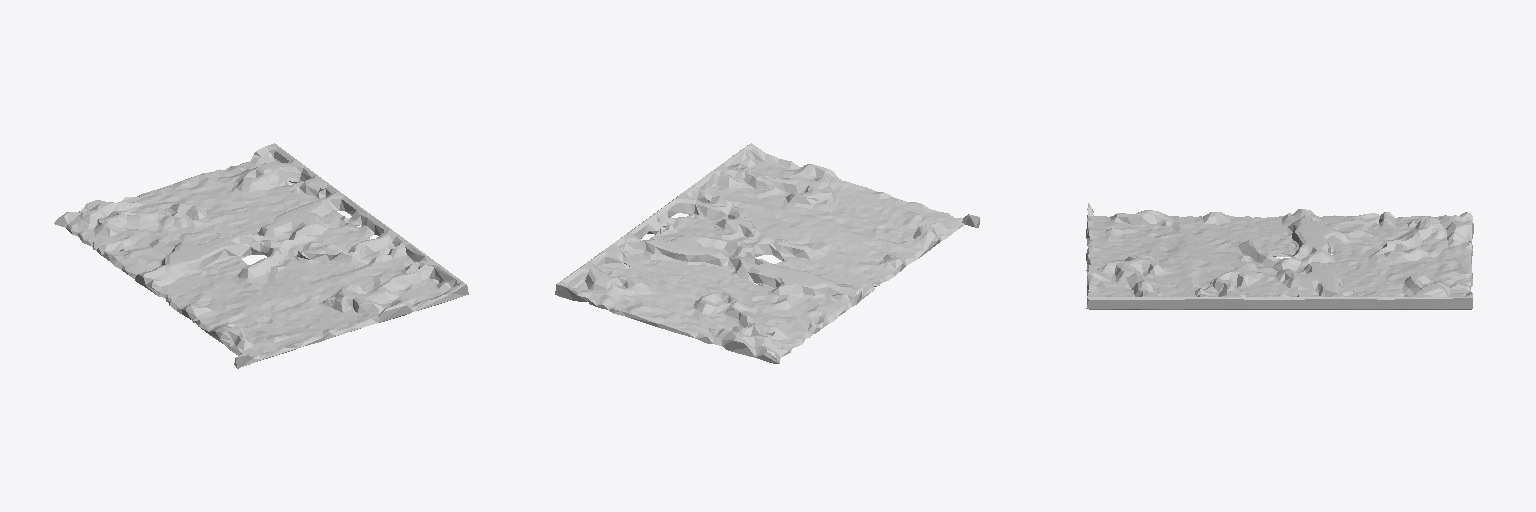
3 views of the same model, side by side, from view 1: azimuth 30°, elevation 25°; view 2: azimuth 150°, elevation 25°; view 3: azimuth 270°, elevation 25° (orthographic).
Visible parts, largest first — view 1: Liquid_Domain; view 2: Liquid_Domain; view 3: Liquid_Domain.
Boxes of the visible parts, x1,y1,x2,y2 form: Liquid_Domain: [54, 143, 468, 368]; Liquid_Domain: [555, 143, 979, 363]; Liquid_Domain: [1086, 203, 1473, 309].
Size of the model in its own units: 117 by 13.87 by 168.